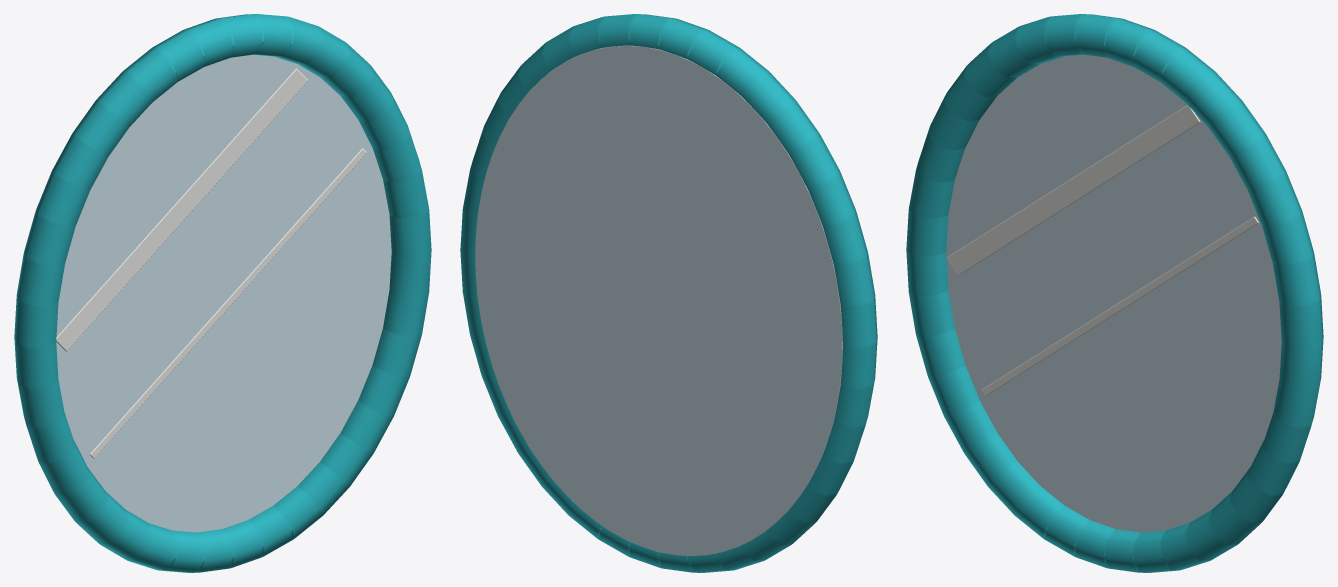
File: espelho_redondo_turquesa.glb
3 renders of one model, left to right at view 1: azimuth 30°, elevation 25°; view 2: azimuth 150°, elevation 25°; view 3: azimuth 330°, elevation 25°, orthographic.
Parts seen in each view (by area): view 1: espelho_redondo_turquesa; view 2: espelho_redondo_turquesa; view 3: espelho_redondo_turquesa.
Part boxes in pixels (x1,y1,x2,y2): espelho_redondo_turquesa: (14,14,431,572); espelho_redondo_turquesa: (460,14,877,572); espelho_redondo_turquesa: (906,14,1323,572).
Size of the model in its own units: 0.66 by 0.8399 by 0.06.
2 materials, 1 textured.
